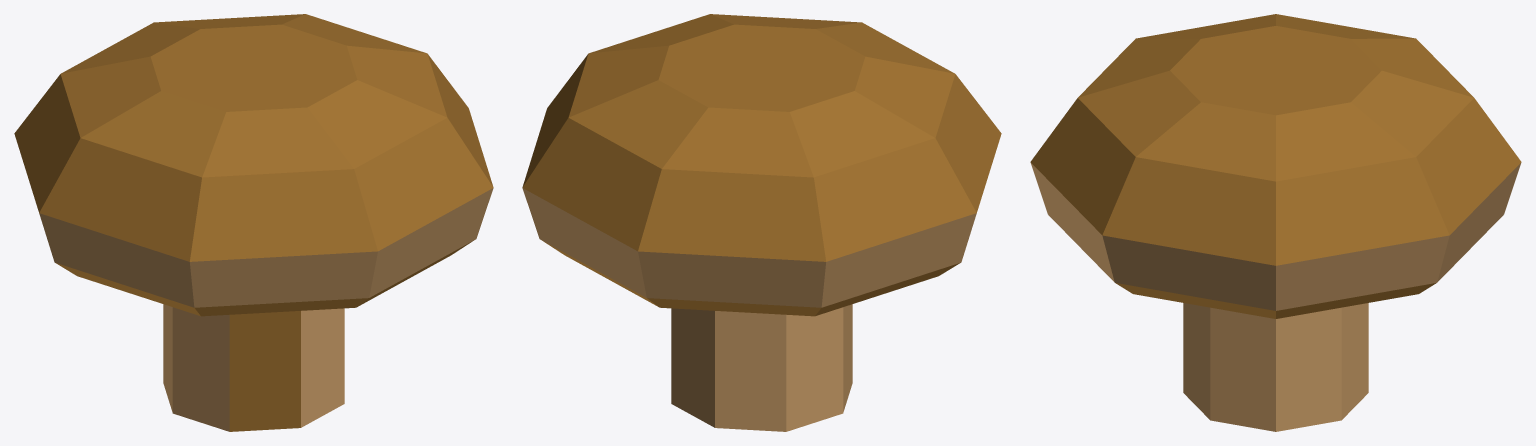
The model's file is Mushroom1.1.fbx.
The picture shows the model from 3 angles, left to right: view 1: azimuth 30°, elevation 25°; view 2: azimuth 150°, elevation 25°; view 3: azimuth 270°, elevation 25°; orthographic projection.
Parts seen in each view (by area): view 1: Mushroom1.1; view 2: Mushroom1.1; view 3: Mushroom1.1.
Boxes of the visible parts, x1=… form: Mushroom1.1: x1=14, y1=14, x2=493, y2=431; Mushroom1.1: x1=522, y1=14, x2=1001, y2=431; Mushroom1.1: x1=1030, y1=14, x2=1521, y2=431.
Size of the model in its own units: 16.05 by 11.61 by 16.05.
